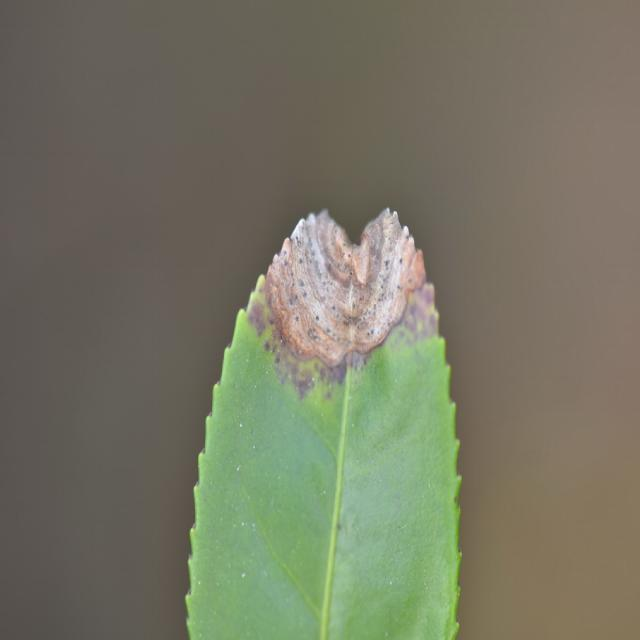Tea cloud leaf blight: (263, 204, 451, 392)
